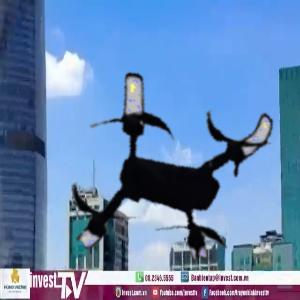drone: (53, 47, 285, 279)
